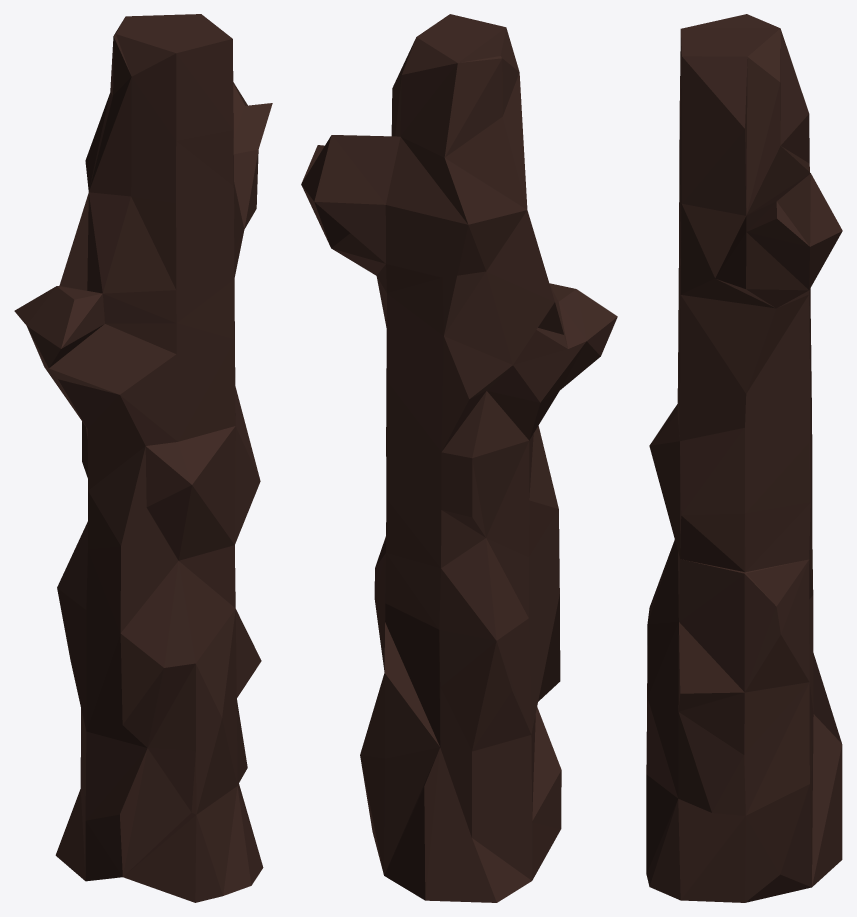
Rendered from bare-trunk-tall.glb.
3 renders of one model, left to right at view 1: azimuth 30°, elevation 25°; view 2: azimuth 150°, elevation 25°; view 3: azimuth 270°, elevation 25°, orthographic. The views are drawn at different scales.
Size of the model in its own units: 0.3244 by 0.9956 by 0.2129.
